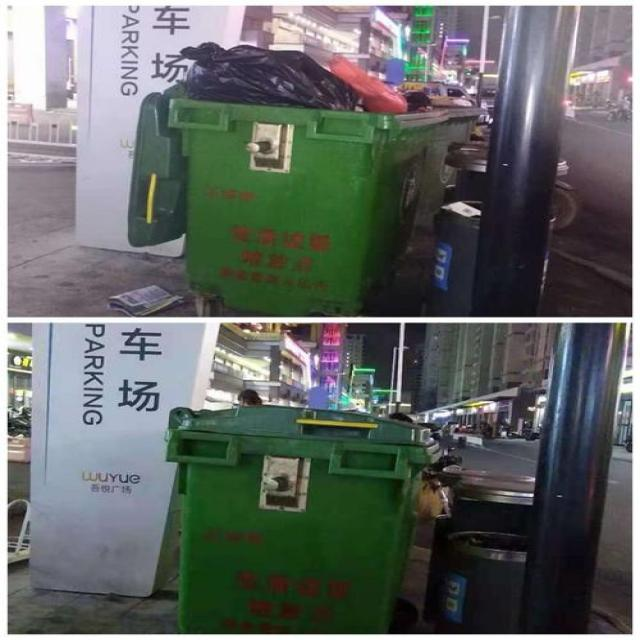garbage_bin: (164, 406, 442, 631)
overflow: (123, 42, 484, 313)
